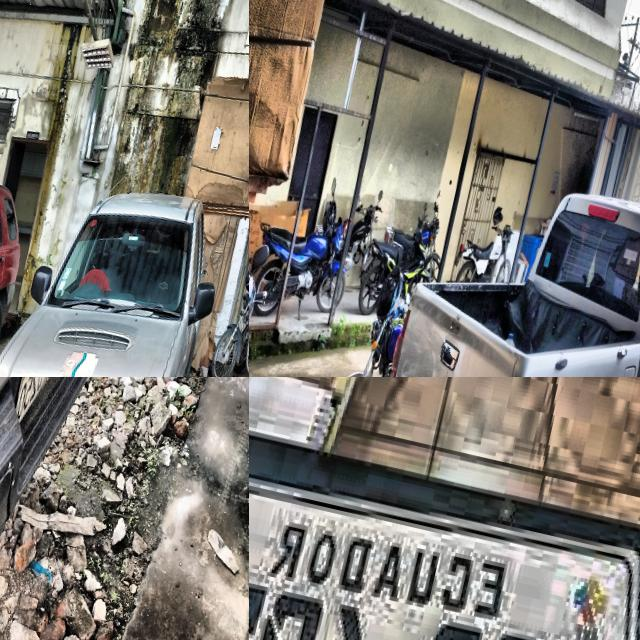license_plate: (249, 459, 640, 640), (15, 377, 48, 422)
